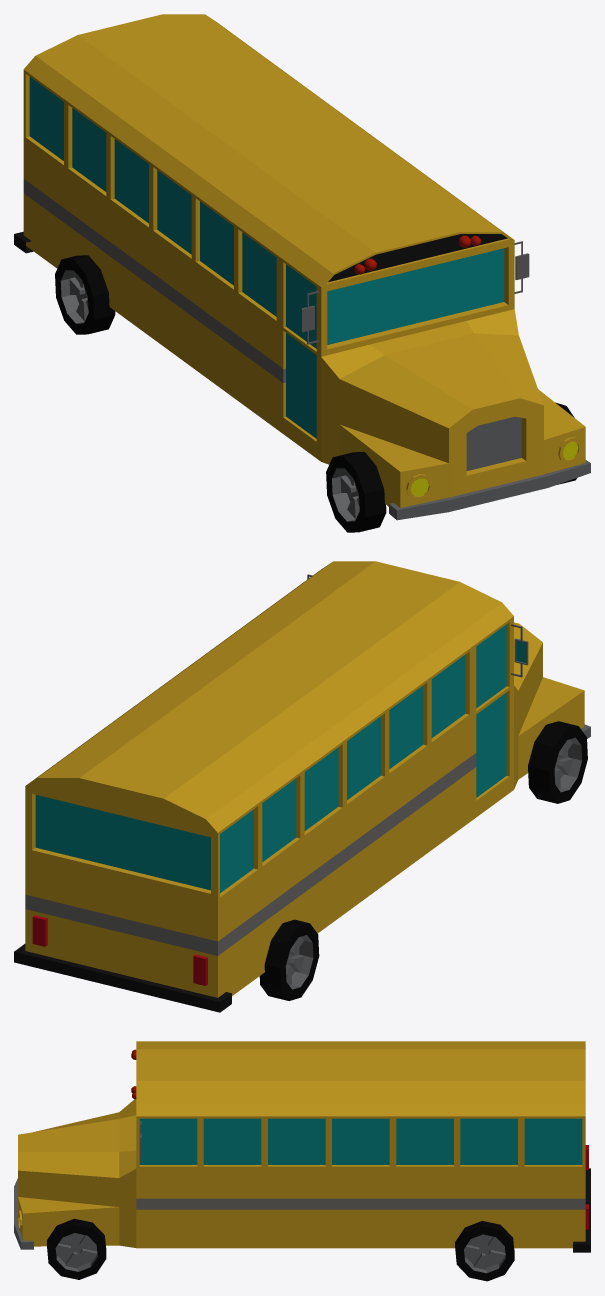
File: Bus.fbx
3 renders of one model, top to bottom at view 1: azimuth 30°, elevation 25°; view 2: azimuth 150°, elevation 25°; view 3: azimuth 270°, elevation 25°, orthographic. The views are drawn at different scales.
Parts seen in each view (by area): view 1: Bus1, R_Front_Wheel.004, R_Back_Wheel.004; view 2: Bus1, R_Front_Wheel.004, R_Back_Wheel.004; view 3: Bus1, L_Front_Wheel.004, L_Back_Wheel.004.
Boxes of the visible parts, x1,y1,x2,y2 form: Bus1: (14,14,590,520); R_Front_Wheel.004: (326,452,386,532); R_Back_Wheel.004: (55,255,115,334); Bus1: (14,561,590,1012); R_Front_Wheel.004: (528,721,587,803); R_Back_Wheel.004: (259,919,319,1000); Bus1: (14,1041,590,1252); L_Front_Wheel.004: (47,1218,106,1279); L_Back_Wheel.004: (455,1221,514,1281).
Bounding box in the file's own units: 3.01 × 2.95 × 8.79.
